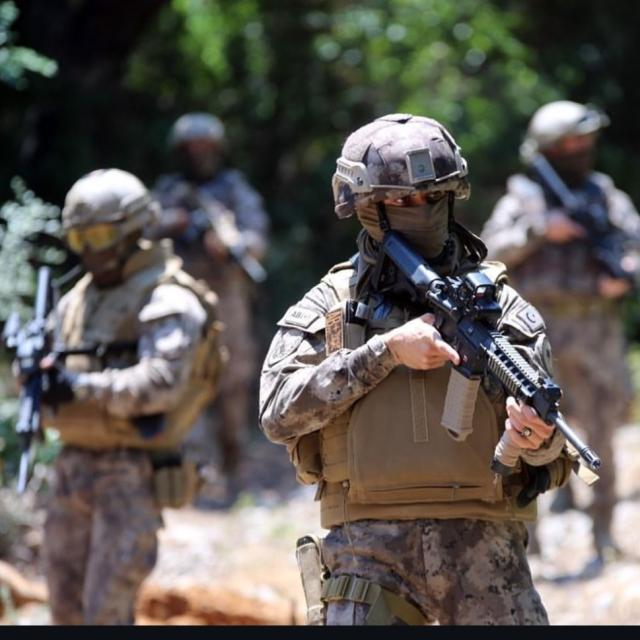poh_personel: (256, 111, 568, 628), (21, 166, 224, 626)
